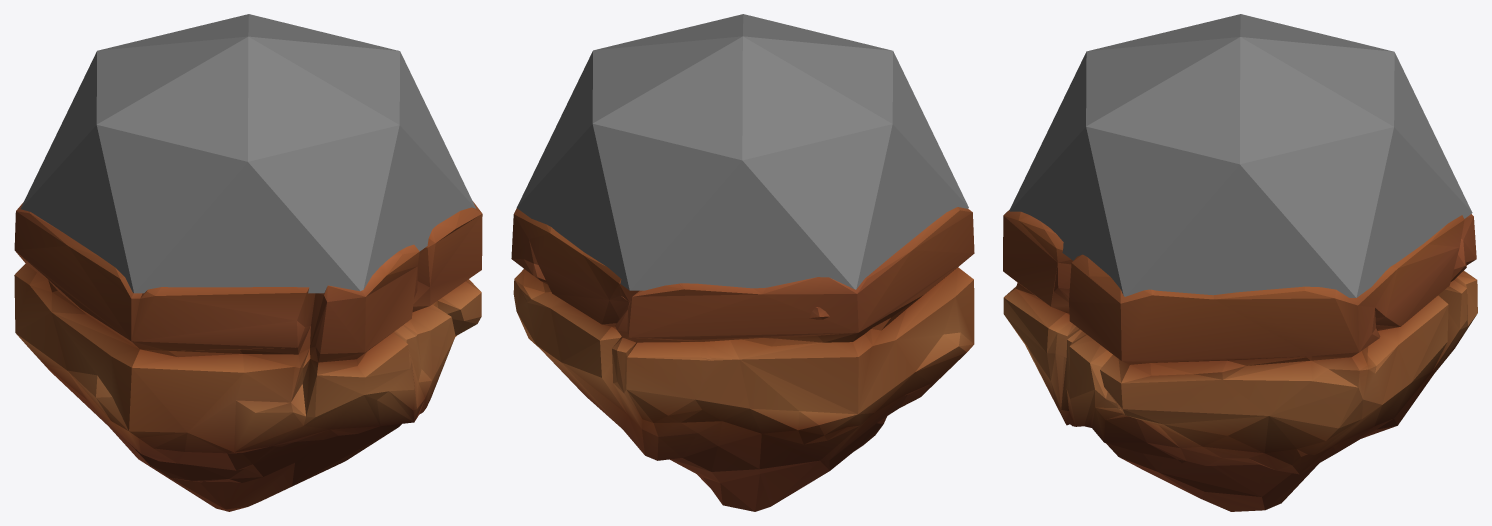
Rendered from DevelopingPlains.fbx.
The picture shows the model from 3 angles, left to right: view 1: azimuth 30°, elevation 25°; view 2: azimuth 150°, elevation 25°; view 3: azimuth 270°, elevation 25°; orthographic projection. The views are drawn at different scales.
Parts seen in each view (by area): view 1: Bubble2, Plains; view 2: Bubble2, Plains; view 3: Bubble2, Plains.
Boxes of the visible parts, <box> form: Bubble2: <box>20,14,475,293</box>; Plains: <box>14,201,482,511</box>; Bubble2: <box>516,14,968,290</box>; Plains: <box>511,207,974,511</box>; Bubble2: <box>1009,14,1472,297</box>; Plains: <box>1003,210,1477,511</box>.
Size of the model in its own units: 1.78 by 2.23 by 1.99.
